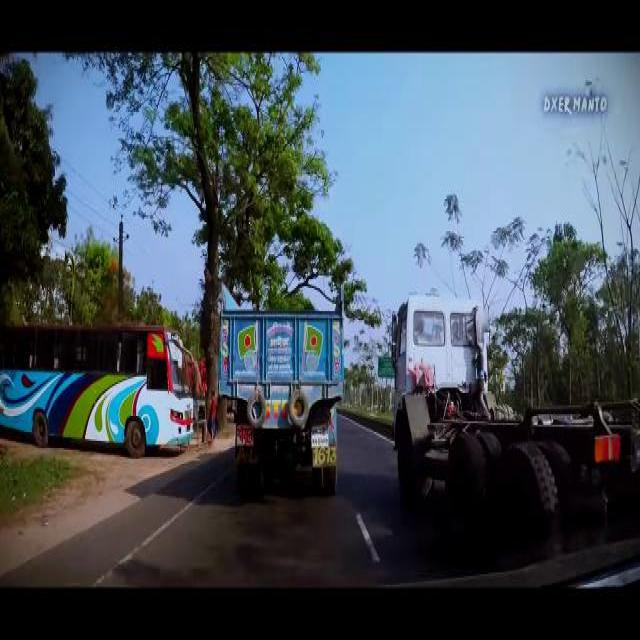bus: (0, 322, 194, 452)
truck: (390, 294, 638, 548), (216, 276, 344, 496)
